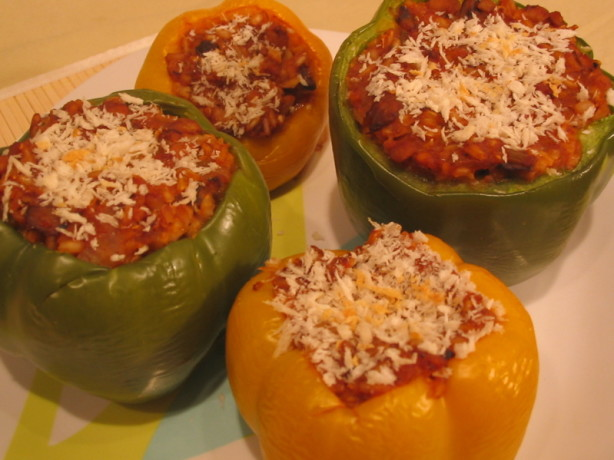ground_beef: (366, 23, 579, 174), (299, 243, 470, 376), (32, 115, 200, 246)
